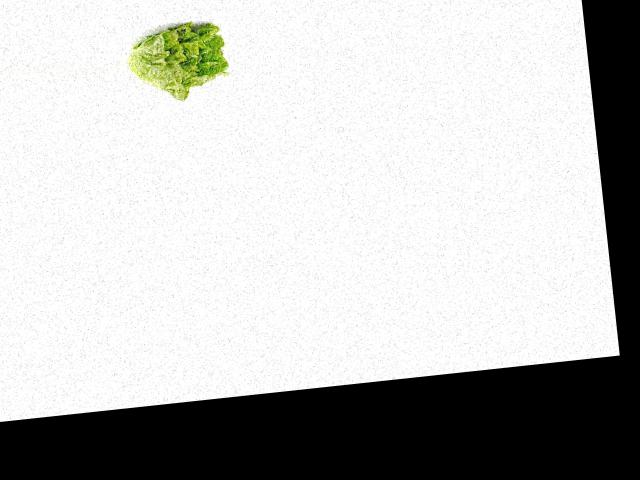lettuce: (124, 13, 231, 104)
